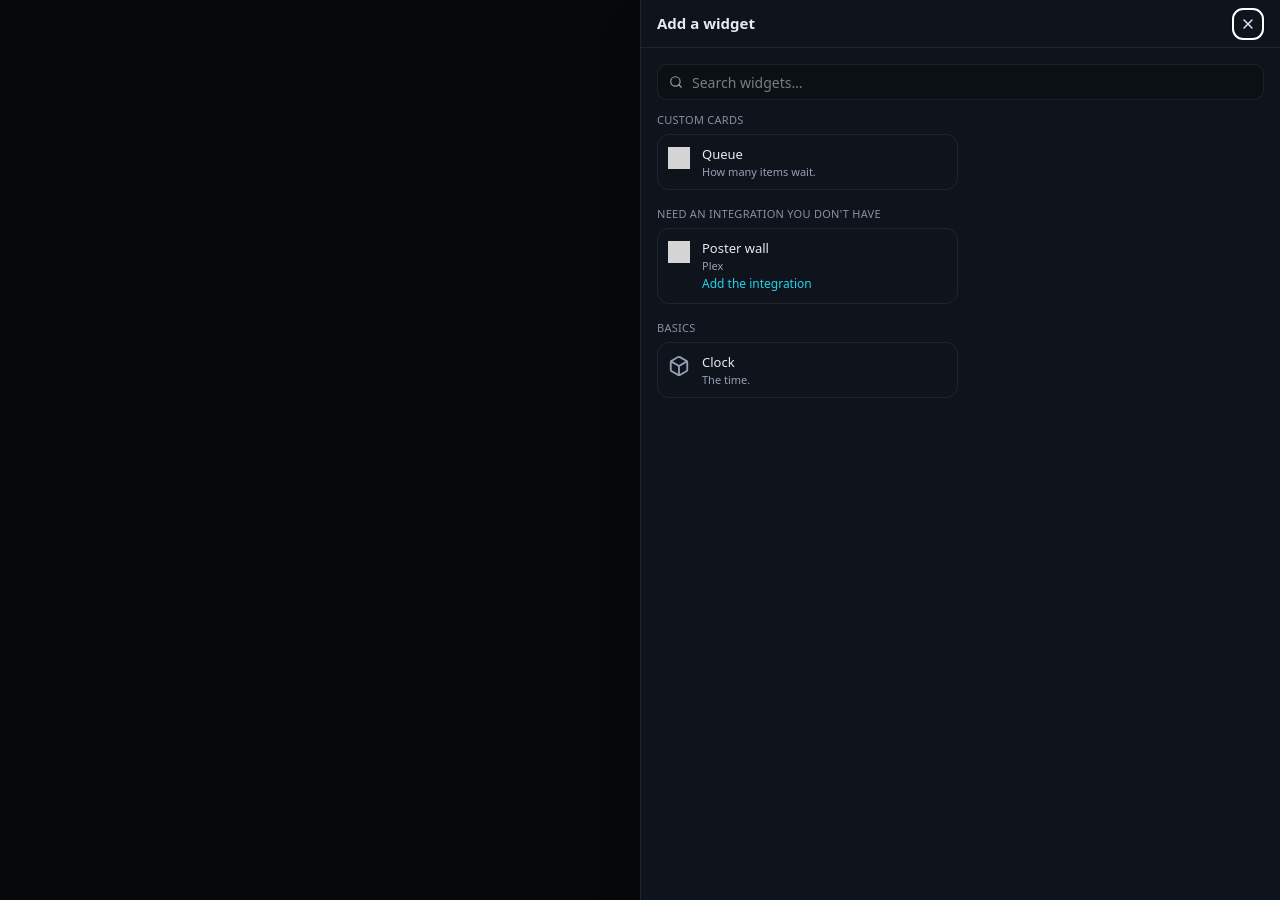
Test case: the library › karten11 ac2: the search finds a custom card by its name
Expected: the text "Queue" is shown, [702,145,743,163]
In the field: (960, 82) [657,64,1264,100], type "poster"
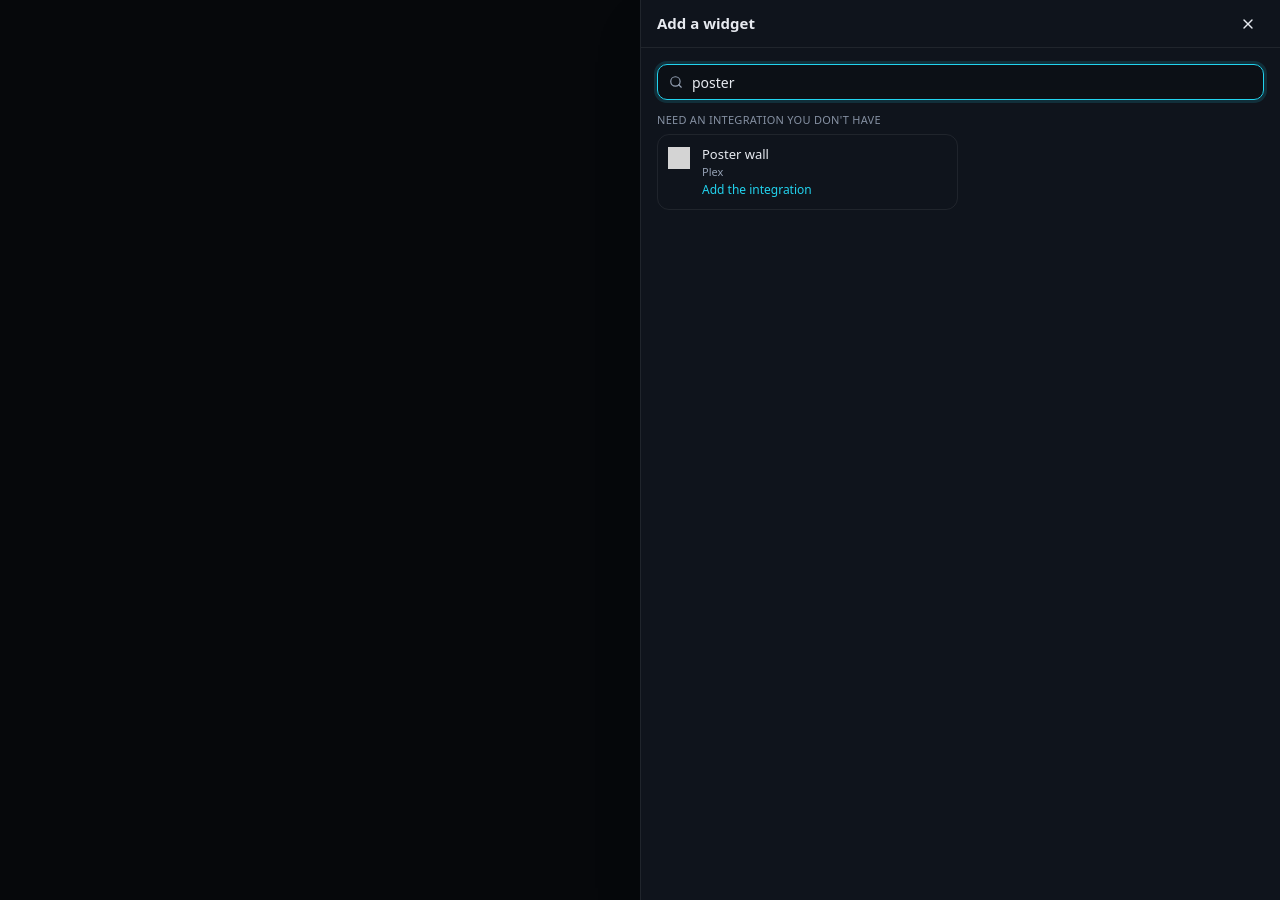
Expected: the text "Poster wall" is shown, [702,145,769,163]
Now the button "Queue" is gone
